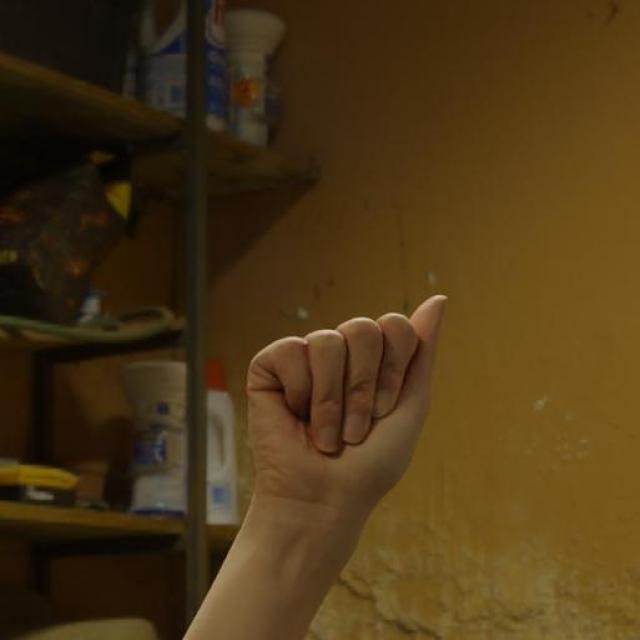A: (237, 287, 455, 512)
